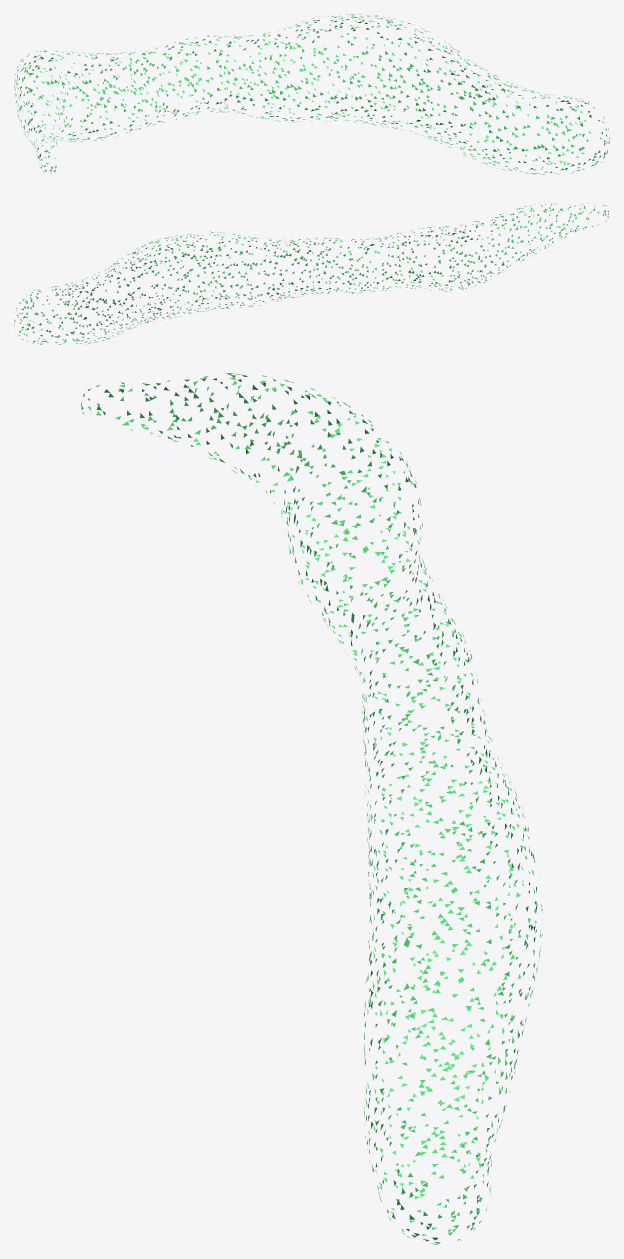
File: morph_020.glb
3 renders of one model, top to bottom at view 1: azimuth 30°, elevation 25°; view 2: azimuth 150°, elevation 25°; view 3: azimuth 270°, elevation 25°, orthographic. The views are drawn at different scales.
Bounding box in the file's own units: 136 × 54.37 × 53.74.
